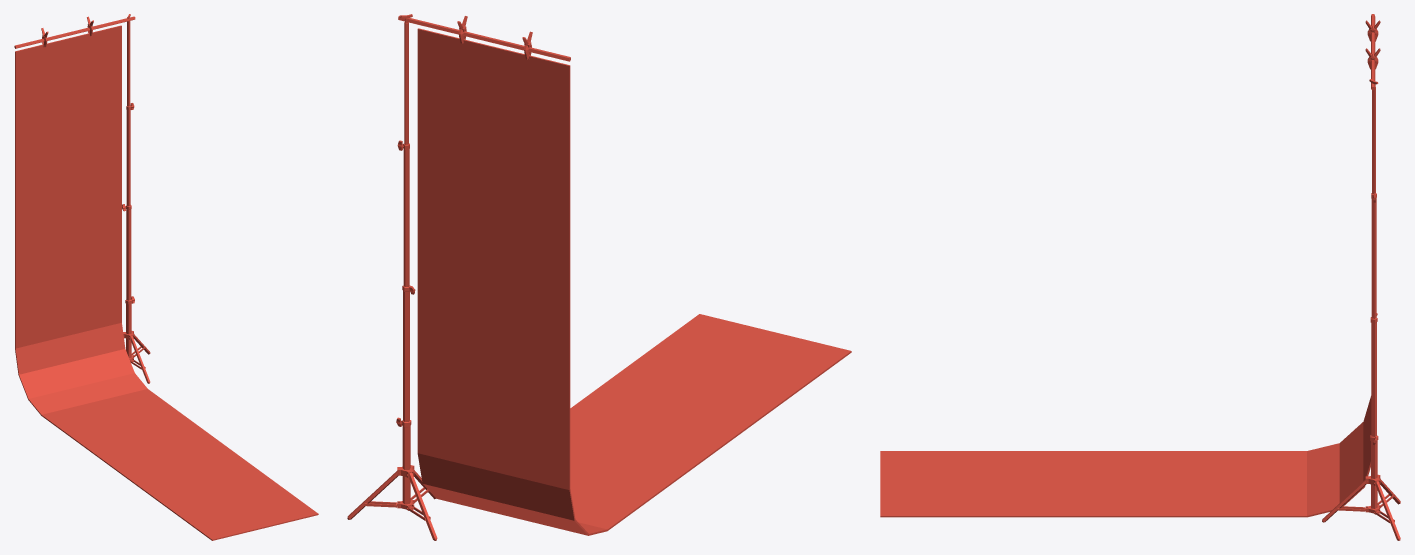
The model's file is SM_Greenscreen_Backdrop_Side.fbx.
The picture shows the model from 3 angles, left to right: view 1: azimuth 30°, elevation 25°; view 2: azimuth 150°, elevation 25°; view 3: azimuth 270°, elevation 25°; orthographic projection. The views are drawn at different scales.
Parts seen in each view (by area): view 1: SM_Greenscreen_Backdrop_Side; view 2: SM_Greenscreen_Backdrop_Side; view 3: SM_Greenscreen_Backdrop_Side.
Part boxes in pixels (box(x1,y1,x2,y2)): SM_Greenscreen_Backdrop_Side: box(14, 14, 318, 540); SM_Greenscreen_Backdrop_Side: box(347, 14, 851, 540); SM_Greenscreen_Backdrop_Side: box(880, 14, 1400, 540).
Bounding box in the file's own units: 316 × 128 × 302.
